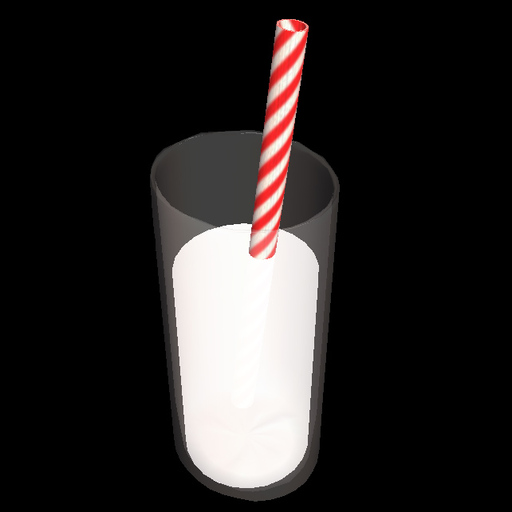glass of milk: (139, 15, 361, 504)
